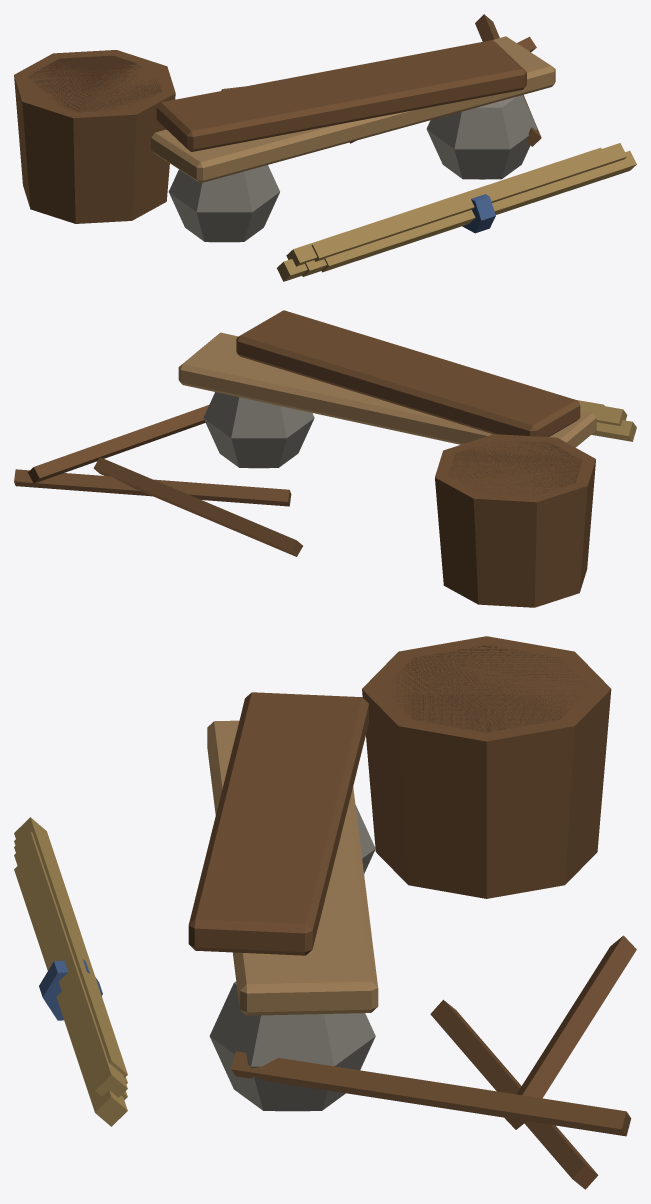
File: build_pile.fbx
The picture shows the model from 3 angles, top to bottom: view 1: azimuth 30°, elevation 25°; view 2: azimuth 150°, elevation 25°; view 3: azimuth 270°, elevation 25°; orthographic projection. The views are drawn at different scales.
Visible parts, largest first — view 1: Prop; view 2: Prop; view 3: Prop.
Part boxes in pixels (left/top/right/bottom): Prop: left=14, top=14, right=636, bottom=281; Prop: left=14, top=310, right=636, bottom=607; Prop: left=14, top=636, right=636, bottom=1189.
Size of the model in its own units: 0.6744 by 0.4496 by 0.1575.
